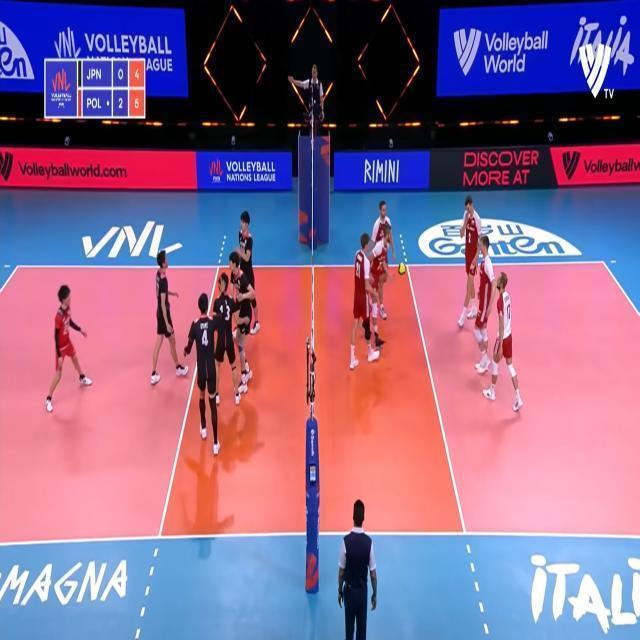volleyball: (398, 262, 407, 274)
